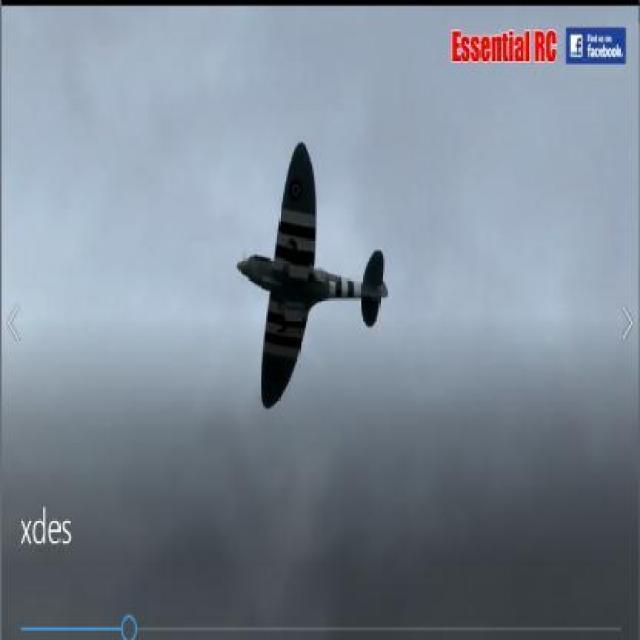iha: (183, 122, 418, 425)
